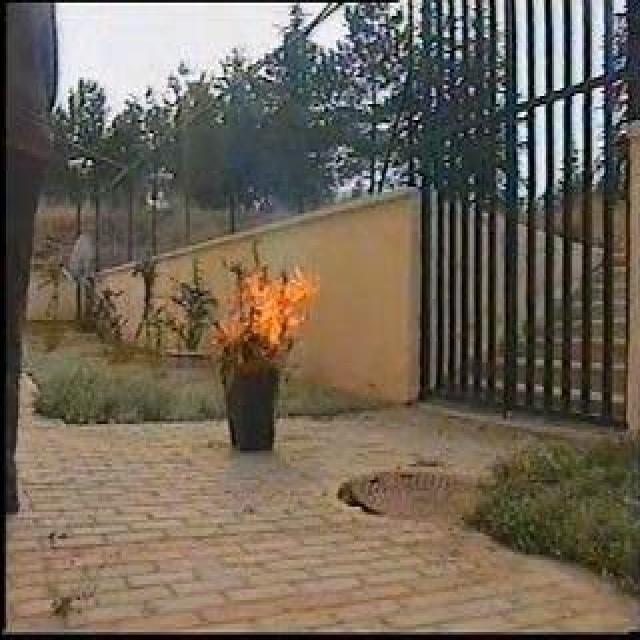fire: (208, 244, 322, 351)
